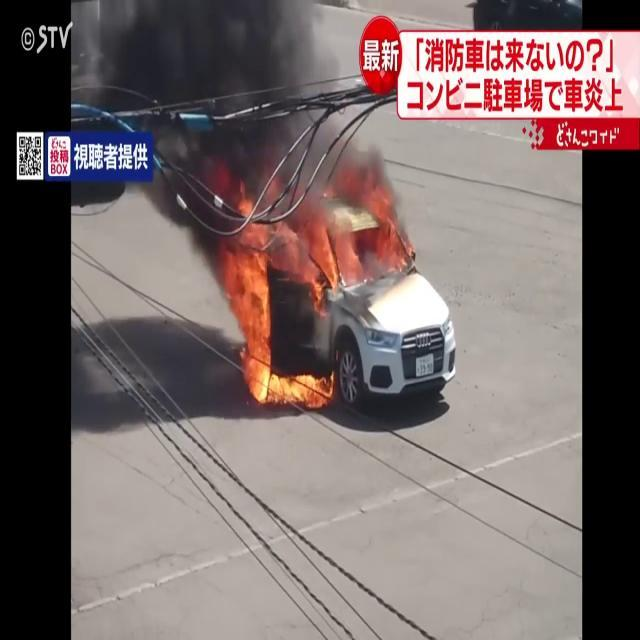Fire: (221, 200, 335, 409), (297, 195, 386, 312)
Smoke: (72, 0, 398, 236)
